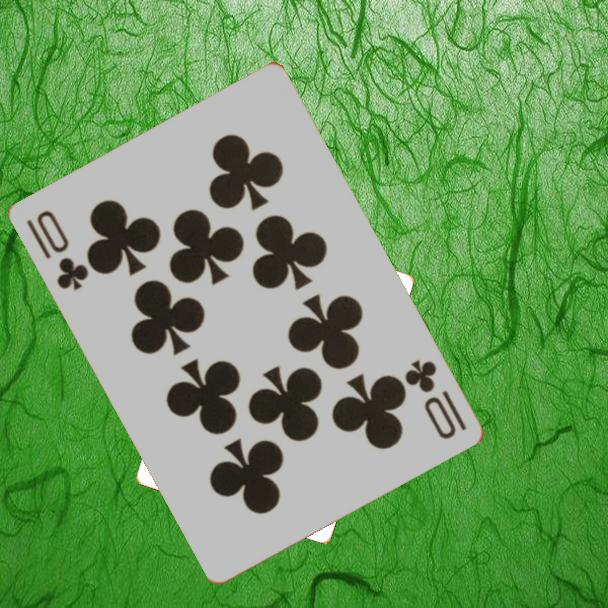c10: (23, 206, 93, 294), (401, 356, 471, 443)
